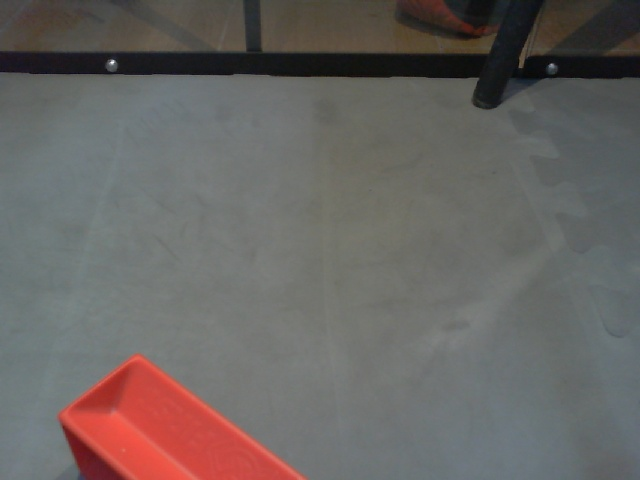RedSample: (55, 350, 309, 480)
